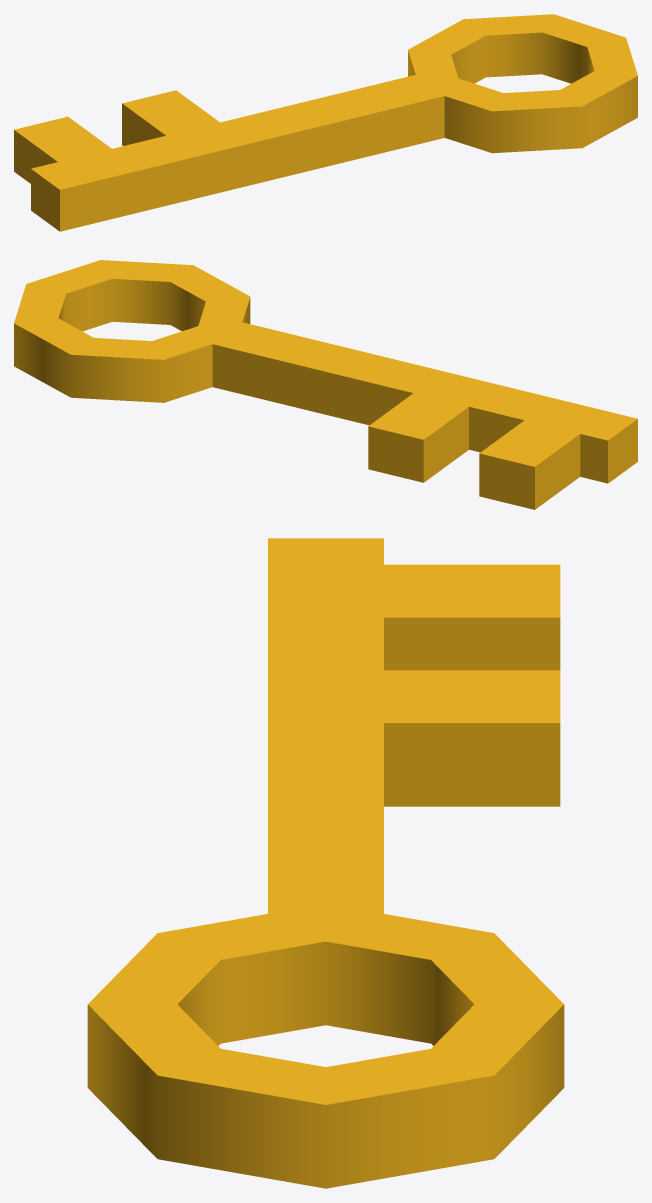
File: Key_1.fbx
The picture shows the model from 3 angles, top to bottom: view 1: azimuth 30°, elevation 25°; view 2: azimuth 150°, elevation 25°; view 3: azimuth 270°, elevation 25°; orthographic projection. The views are drawn at different scales.
Visible parts, largest first — view 1: Box001; view 2: Box001; view 3: Box001.
Boxes of the visible parts, box(x1,y1,x2,y2) form: Box001: box(14, 14, 637, 231); Box001: box(14, 260, 637, 509); Box001: box(87, 538, 564, 1188).
Size of the model in its own units: 7.26 by 0.4996 by 2.58.
